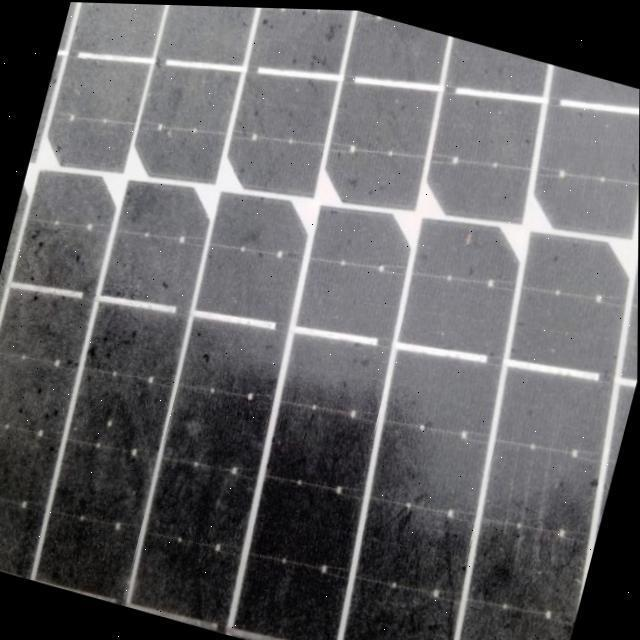Anomaly Solar Panel: (0, 0, 640, 640)
Surface Contaminant: (0, 2, 640, 640)
